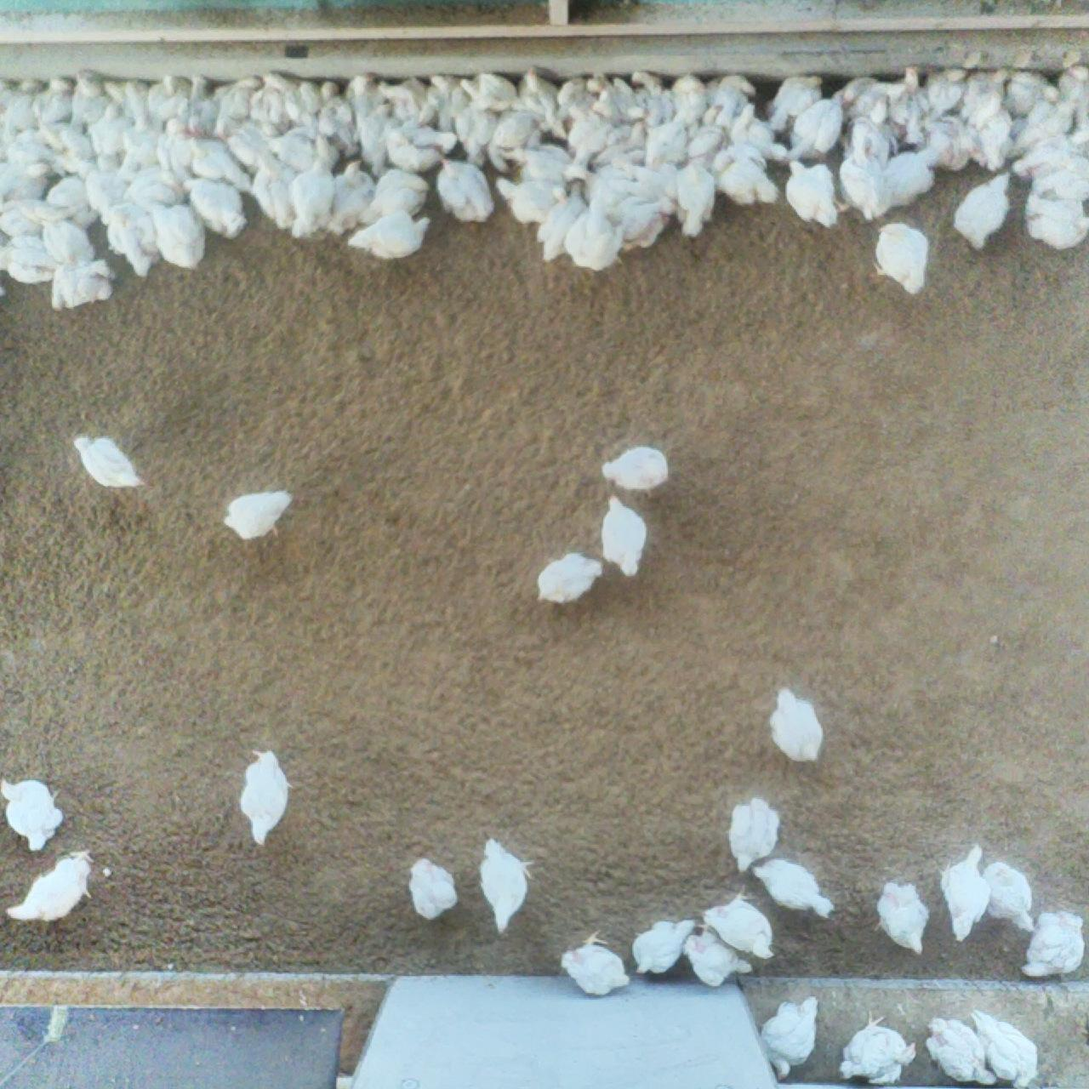chicken: (751, 990, 828, 1081), (9, 844, 94, 924), (831, 1016, 921, 1089), (747, 852, 836, 924), (233, 744, 293, 844), (699, 892, 780, 959), (869, 221, 938, 299), (2, 773, 65, 857), (102, 202, 166, 282), (938, 838, 986, 944), (922, 1016, 995, 1085), (336, 206, 430, 259), (783, 159, 852, 231), (213, 111, 288, 176), (477, 839, 533, 925), (534, 183, 592, 265), (951, 174, 1012, 250), (430, 162, 498, 230), (793, 83, 850, 164), (725, 797, 787, 871), (560, 937, 636, 997), (767, 684, 822, 763), (324, 155, 381, 231), (516, 137, 588, 197), (975, 1014, 1040, 1080), (680, 933, 759, 987), (984, 861, 1040, 937), (74, 430, 141, 493), (1026, 911, 1087, 980), (501, 162, 561, 231), (264, 65, 330, 127), (875, 880, 931, 953), (627, 915, 696, 974), (246, 159, 301, 233), (759, 70, 831, 126), (601, 438, 676, 490), (843, 78, 919, 129), (414, 72, 477, 133), (916, 118, 980, 178), (183, 172, 242, 237), (187, 132, 252, 190), (564, 111, 623, 174), (715, 145, 778, 203), (604, 495, 648, 578), (88, 154, 135, 231), (535, 552, 607, 602), (317, 77, 358, 164), (407, 855, 459, 923), (362, 168, 430, 220), (380, 123, 453, 171), (1029, 196, 1089, 254), (1001, 69, 1071, 118), (888, 145, 938, 213), (888, 70, 931, 149), (213, 72, 265, 137), (553, 74, 611, 132), (449, 101, 506, 159), (847, 124, 881, 221), (523, 64, 569, 134), (967, 110, 1017, 174), (659, 71, 714, 129), (573, 202, 617, 274), (295, 157, 333, 239), (591, 76, 653, 126), (960, 67, 1014, 124), (611, 196, 670, 248), (492, 105, 546, 161), (224, 494, 294, 536), (50, 168, 100, 225), (156, 205, 200, 269), (34, 218, 96, 263), (462, 70, 520, 118), (630, 69, 674, 132), (1010, 107, 1080, 146), (47, 262, 113, 303), (94, 104, 139, 163), (106, 65, 151, 124), (1014, 139, 1083, 177), (920, 63, 966, 120), (123, 171, 182, 214), (279, 127, 336, 171), (1, 237, 55, 283), (1030, 157, 1089, 199), (682, 117, 727, 172), (359, 101, 399, 162), (1, 74, 36, 143), (185, 76, 223, 139), (125, 113, 163, 174), (711, 82, 756, 133), (44, 123, 94, 168), (1, 196, 61, 233), (393, 77, 436, 127), (68, 73, 104, 132), (3, 135, 49, 181), (1060, 64, 1089, 135), (41, 73, 71, 137), (686, 168, 714, 235), (156, 73, 192, 123), (156, 121, 189, 174), (645, 123, 681, 168), (348, 73, 383, 117), (4, 159, 49, 192)
